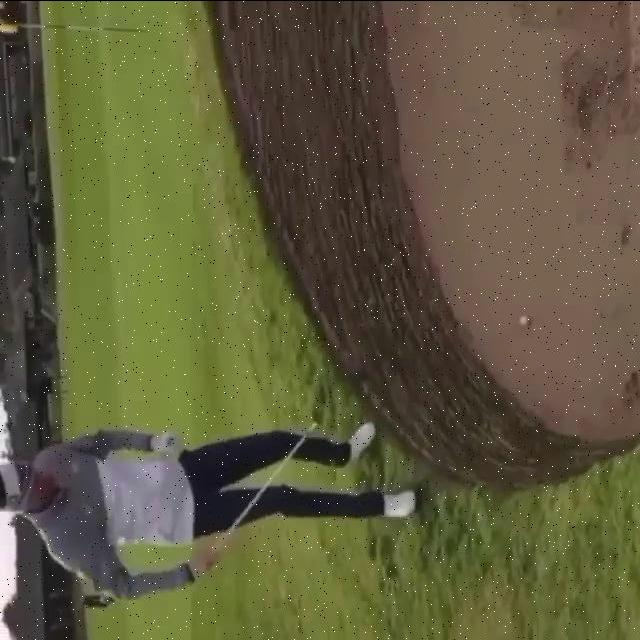ClubHandle: (224, 421, 320, 538)
ClubHead: (306, 421, 319, 437)
GolfBall: (520, 315, 529, 324)
